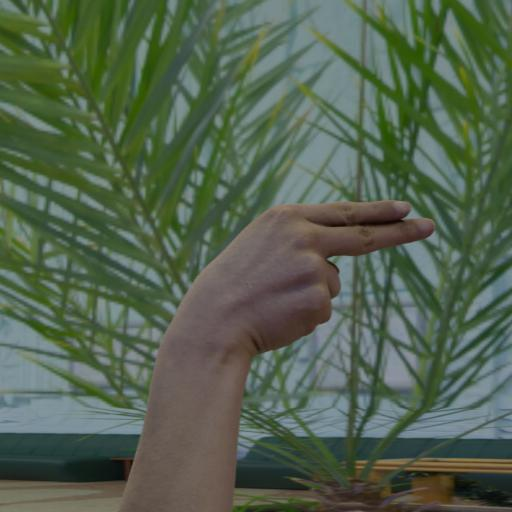H: (149, 187, 438, 372)
